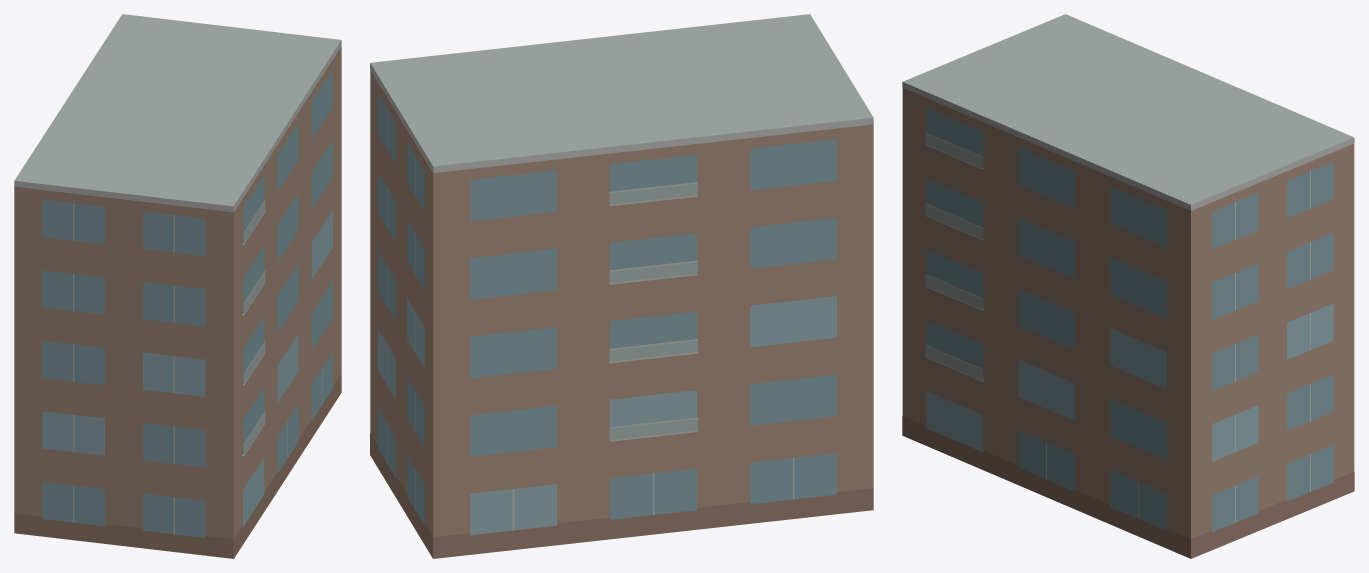
Rendered from survey-upis-32931610.glb.
3 views of the same model, side by side, from view 1: azimuth 30°, elevation 25°; view 2: azimuth 150°, elevation 25°; view 3: azimuth 270°, elevation 25° (orthographic). The views are drawn at different scales.
Parts seen in each view (by area): view 1: survey-upis-32931610.tmp; view 2: survey-upis-32931610.tmp; view 3: survey-upis-32931610.tmp.
Part boxes in pixels (x1,y1,x2,y2): survey-upis-32931610.tmp: (14,14,341,558); survey-upis-32931610.tmp: (370,14,873,558); survey-upis-32931610.tmp: (902,14,1354,558).
Size of the model in its own units: 16.79 by 14.5 by 16.79.
